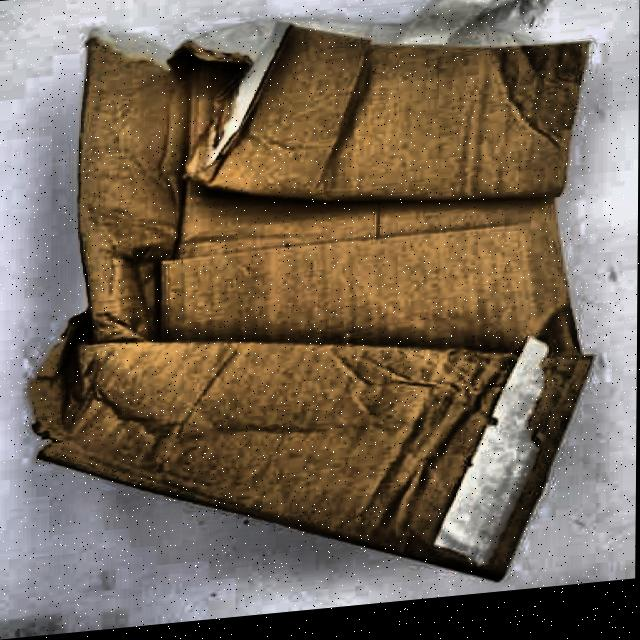cardboard: (27, 0, 601, 625)
